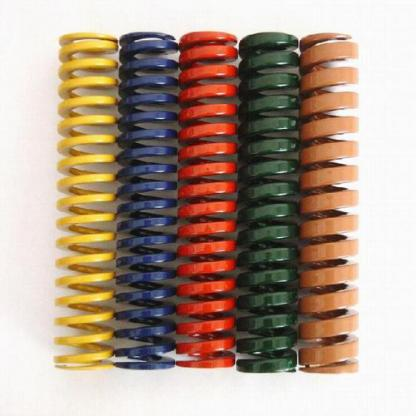FOD: (113, 31, 184, 378), (50, 29, 120, 374), (235, 31, 301, 375), (298, 32, 364, 376), (178, 28, 240, 372)
